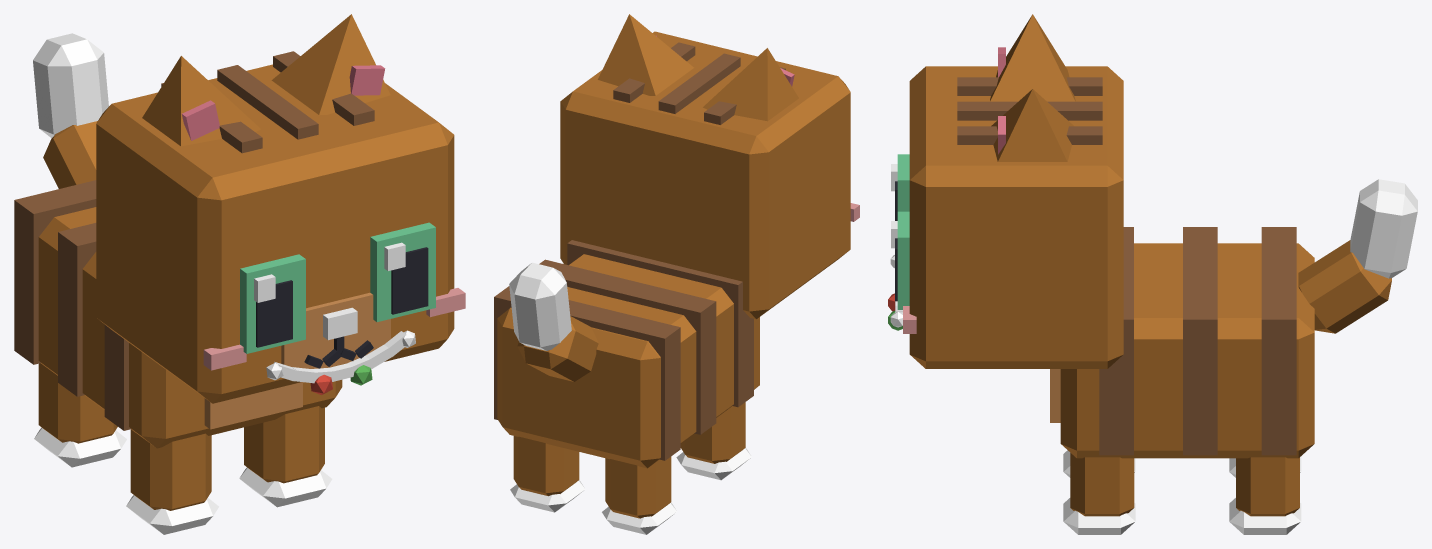
The model's file is CatCafe_Cat_Gingerbread.glb.
3 views of the same model, side by side, from view 1: azimuth 30°, elevation 25°; view 2: azimuth 150°, elevation 25°; view 3: azimuth 270°, elevation 25° (orthographic). The views are drawn at different scales.
Parts seen in each view (by area): view 1: CatCafe_Cat_Gingerbread_Head, CatCafe_Cat_Gingerbread_Body, CatCafe_Cat_Gingerbread_Tail, CatCafe_Cat_Gingerbread_LegF2, CatCafe_Cat_Gingerbread_LegF1, CatCafe_Cat_Gingerbread_EarL, CatCafe_Cat_Gingerbread_Eye2, CatCafe_Cat_Gingerbread_Eye1, CatCafe_Cat_Gingerbread_LegB2, CatCafe_Cat_Gingerbread_EarR, CatCafe_Cat_Gingerbread_Prop; view 2: CatCafe_Cat_Gingerbread_Head, CatCafe_Cat_Gingerbread_Body, CatCafe_Cat_Gingerbread_Tail, CatCafe_Cat_Gingerbread_LegB2, CatCafe_Cat_Gingerbread_LegB1, CatCafe_Cat_Gingerbread_EarL, CatCafe_Cat_Gingerbread_EarR, CatCafe_Cat_Gingerbread_LegF2; view 3: CatCafe_Cat_Gingerbread_Head, CatCafe_Cat_Gingerbread_Body, CatCafe_Cat_Gingerbread_Tail, CatCafe_Cat_Gingerbread_LegF1, CatCafe_Cat_Gingerbread_LegB1, CatCafe_Cat_Gingerbread_EarR, CatCafe_Cat_Gingerbread_EarL, CatCafe_Cat_Gingerbread_Eye1, CatCafe_Cat_Gingerbread_Eye2.
Part boxes in pixels (x1=…): CatCafe_Cat_Gingerbread_Head: x1=96, y1=51, x2=465, y2=403; CatCafe_Cat_Gingerbread_Body: x1=14, y1=180, x2=342, y2=448; CatCafe_Cat_Gingerbread_Tail: x1=33, y1=33, x2=108, y2=188; CatCafe_Cat_Gingerbread_LegF2: x1=126, y1=429, x2=218, y2=534; CatCafe_Cat_Gingerbread_LegF1: x1=239, y1=406, x2=332, y2=507; CatCafe_Cat_Gingerbread_EarL: x1=271, y1=14, x2=390, y2=115; CatCafe_Cat_Gingerbread_Eye2: x1=240, y1=254, x2=305, y2=353; CatCafe_Cat_Gingerbread_Eye1: x1=370, y1=222, x2=435, y2=321; CatCafe_Cat_Gingerbread_LegB2: x1=34, y1=363, x2=126, y2=467; CatCafe_Cat_Gingerbread_EarR: x1=142, y1=56, x2=260, y2=146; CatCafe_Cat_Gingerbread_Prop: x1=266, y1=330, x2=415, y2=394; CatCafe_Cat_Gingerbread_Head: x1=560, y1=31, x2=859, y2=319; CatCafe_Cat_Gingerbread_Body: x1=494, y1=240, x2=759, y2=468; CatCafe_Cat_Gingerbread_Tail: x1=509, y1=262, x2=598, y2=381; CatCafe_Cat_Gingerbread_LegB2: x1=602, y1=456, x2=676, y2=534; CatCafe_Cat_Gingerbread_LegB1: x1=510, y1=436, x2=585, y2=512; CatCafe_Cat_Gingerbread_EarL: x1=597, y1=14, x2=693, y2=95; CatCafe_Cat_Gingerbread_EarR: x1=703, y1=48, x2=798, y2=121; CatCafe_Cat_Gingerbread_LegF2: x1=676, y1=402, x2=751, y2=480; CatCafe_Cat_Gingerbread_Head: x1=903, y1=66, x2=1123, y2=368; CatCafe_Cat_Gingerbread_Body: x1=1050, y1=227, x2=1314, y2=458; CatCafe_Cat_Gingerbread_Tail: x1=1298, y1=179, x2=1417, y2=333; CatCafe_Cat_Gingerbread_LegF1: x1=1063, y1=453, x2=1135, y2=534; CatCafe_Cat_Gingerbread_LegB1: x1=1229, y1=457, x2=1301, y2=534; CatCafe_Cat_Gingerbread_EarR: x1=990, y1=14, x2=1075, y2=101; CatCafe_Cat_Gingerbread_EarL: x1=991, y1=89, x2=1073, y2=161; CatCafe_Cat_Gingerbread_Eye1: x1=891, y1=211, x2=909, y2=309; CatCafe_Cat_Gingerbread_Eye2: x1=891, y1=154, x2=909, y2=220.
Bounding box in the file's own units: 1 × 1.86 × 1.98.
1 material, 1 textured.
